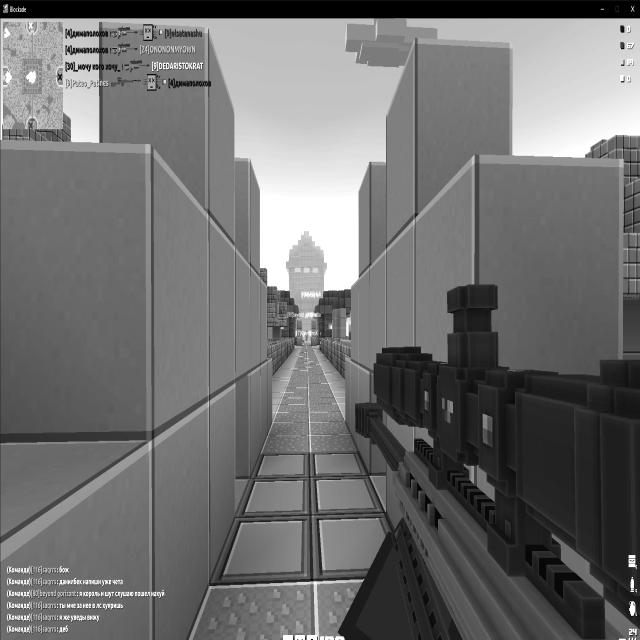Head: (305, 330, 308, 335)
Player: (305, 330, 308, 341)
